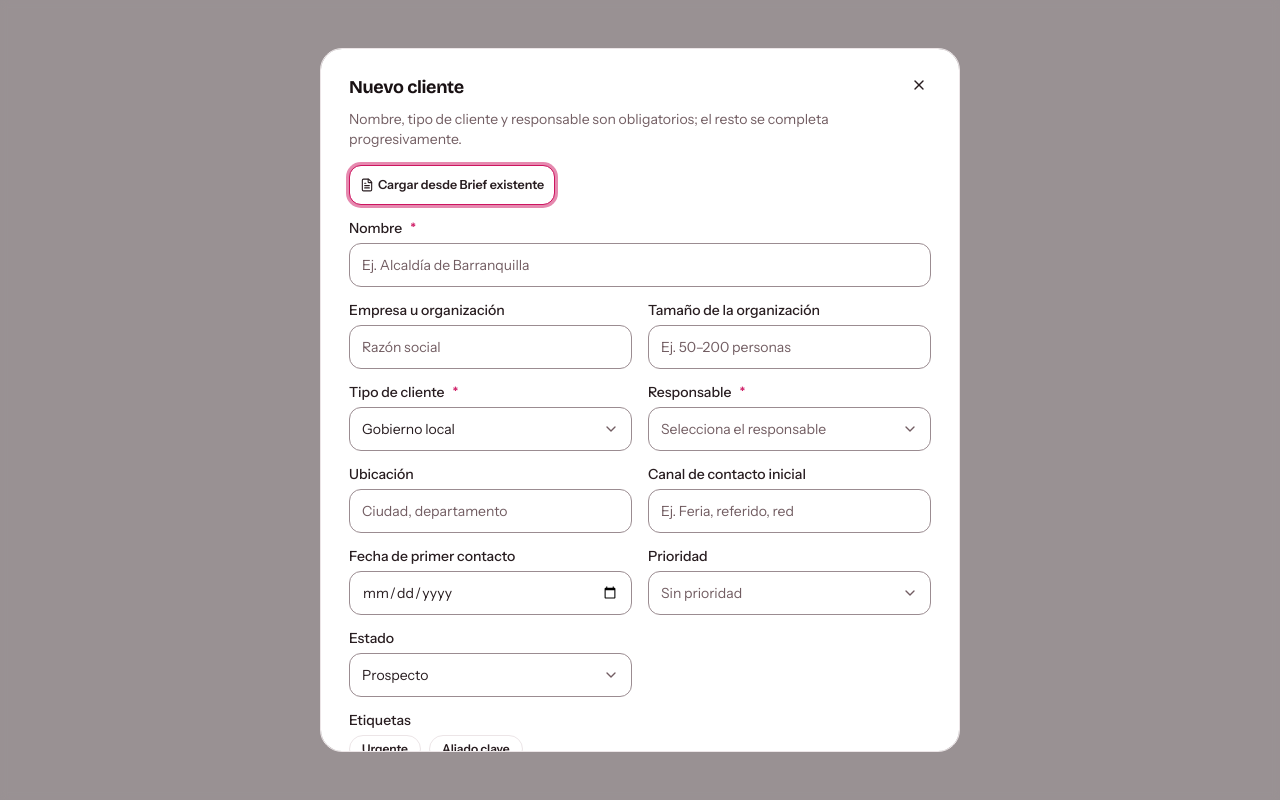
Test case: ClientFormDialog (create) › shows a validation error when responsable is missing
This screenshot has width=1280, height=800.
In the field labelled "Nombre *": (640, 265) [349,243,931,287], type "Alcaldía de Prueba"
(page scrolled)
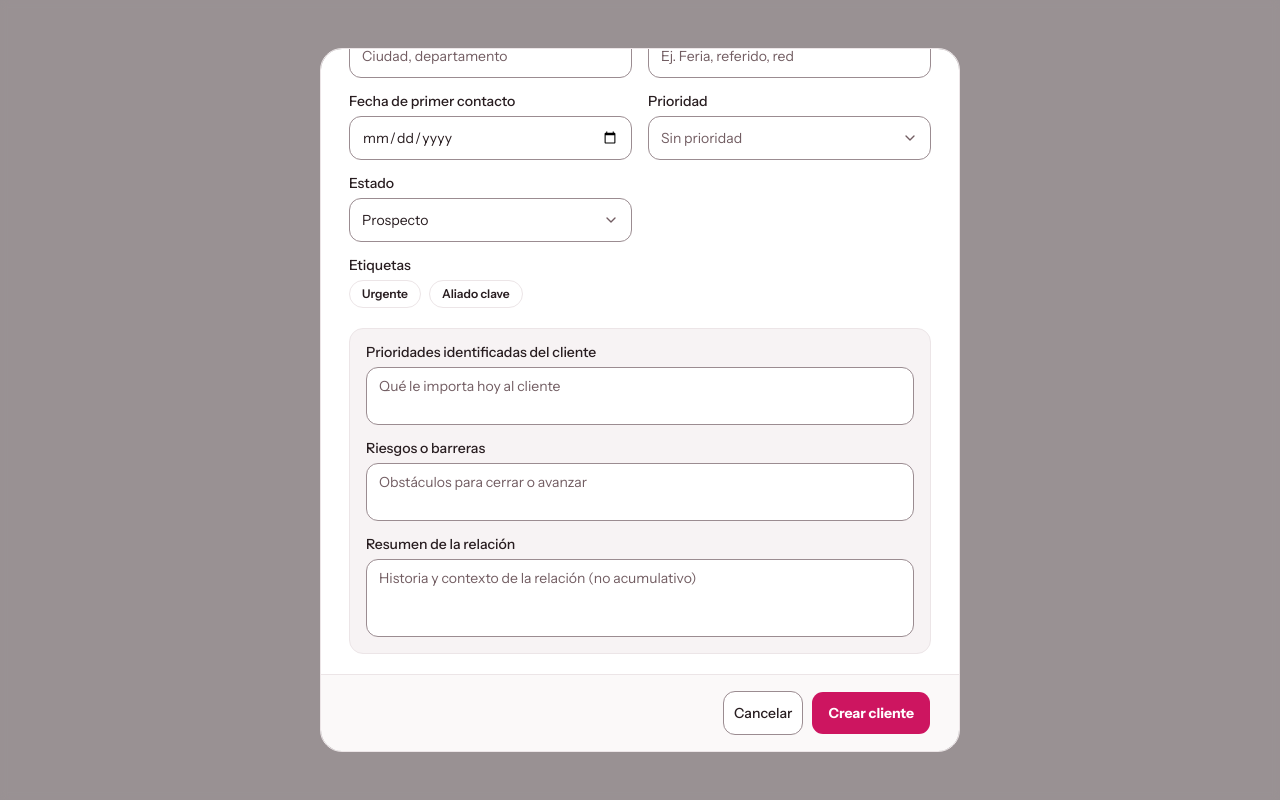
Click the button "Crear cliente": (871, 713) [812,691,931,735]
(page scrolled)
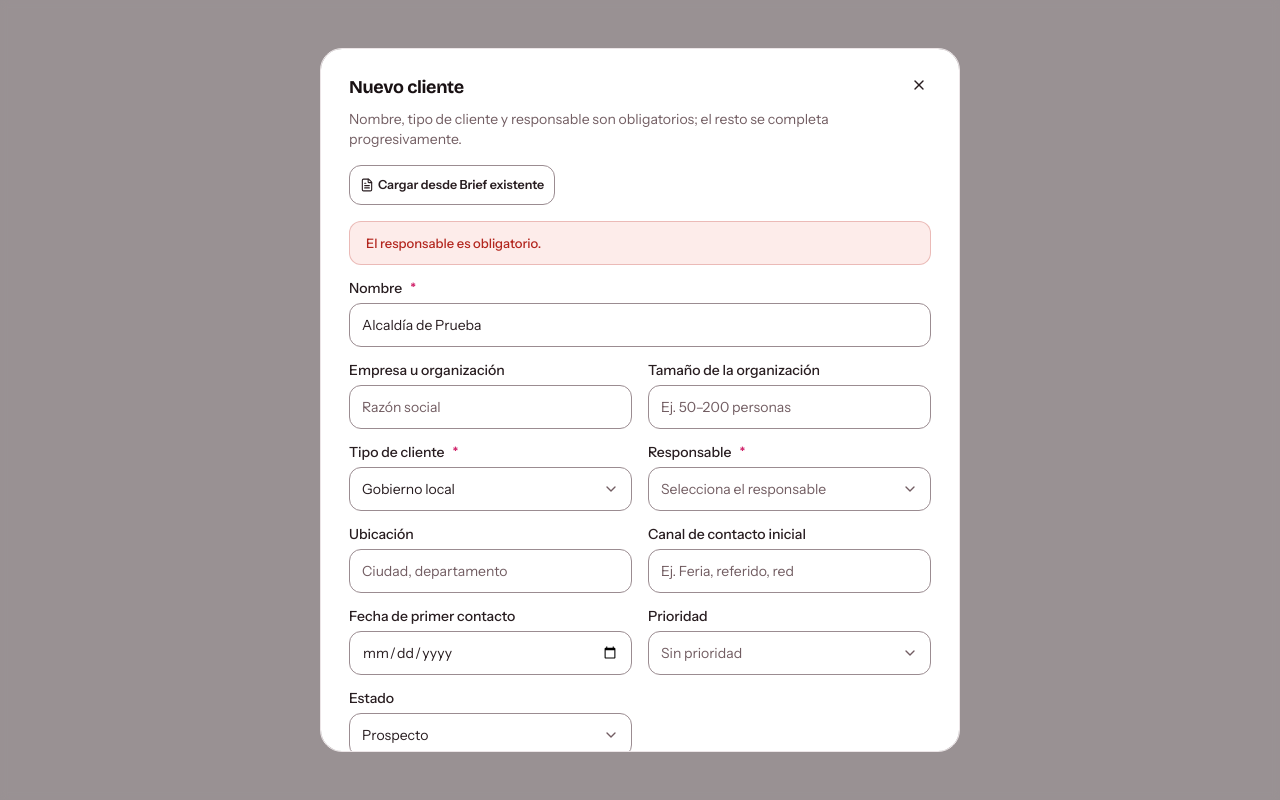
Now the message reads "El responsable es obligatorio.", box [366,235,541,251]
